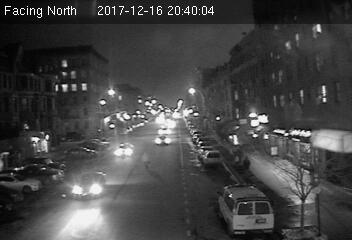car: (69, 170, 107, 198), (114, 144, 137, 158), (204, 150, 222, 165), (154, 135, 171, 146)
police: (216, 182, 275, 234)
